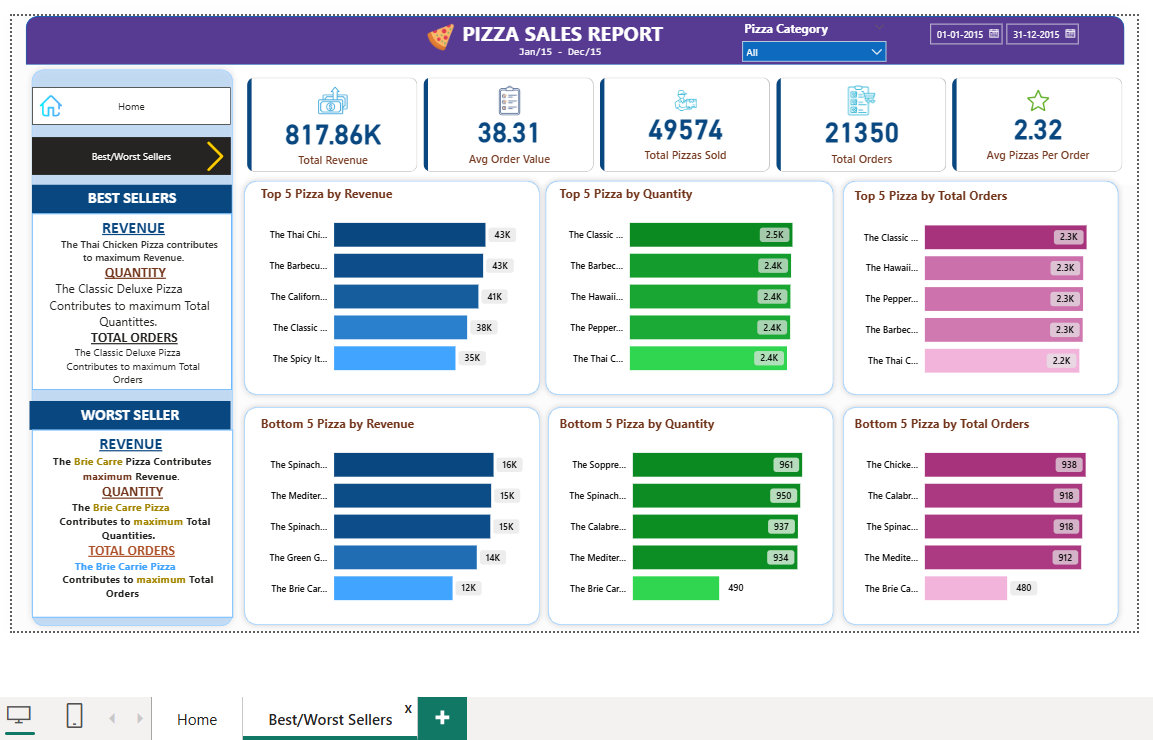

The dashboard page shown, as its layout file describes it:
{"tool":"powerbi","page":{"name":"Best/Worst Sellers","canvas":[1500,820],"ordinal":1},"visuals":[{"type":"cardVisual","fields":{"Data":["pizza_sales.Total Revenue","pizza_sales.Avg Order Value","pizza_sales.Total Pizzas Sold","pizza_sales.Total Orders","pizza_sales.Avg Pizzas Per Order"]},"box":[296.7,65,1203.3,160],"z":0},{"type":"shape","box":[18.3,0,1465,65],"z":1000},{"type":"textbox","box":[583.3,0,301.7,46.7],"z":2000},{"type":"textbox","box":[611.7,33.3,238.3,36.7],"z":3000},{"type":"image","box":[548.3,10,46.7,36.7],"z":4000},{"type":"shape","box":[301.7,211.7,410,301.7],"z":5000},{"type":"shape","box":[301.7,513.3,410,306.7],"z":6000},{"type":"shape","box":[706.7,513.3,396.7,306.7],"z":7000},{"type":"shape","box":[1100,513.3,383.3,306.7],"z":8000},{"type":"shape","box":[18.4,63.2,284.2,757.9],"z":9000},{"type":"textbox","box":[26.7,225,266.7,38.3],"z":10000},{"type":"textbox","box":[26.7,263.3,266.7,235],"z":11000},{"type":"textbox","box":[24,514,268,38],"z":12000},{"type":"textbox","box":[26,552,268,250],"z":13000},{"type":"slicer","fields":{"Values":["pizza_sales.pizza_category"]},"box":[963.4,0,212.2,63.4],"z":14000},{"type":"slicer","fields":{"Values":["pizza_sales.order_date"]},"box":[1211.7,0,218.3,70],"z":15000},{"type":"shape","box":[703.3,211.7,400,301.7],"z":16000},{"type":"shape","box":[1100,211.7,383.3,301.7],"z":17000},{"type":"barChart","title":"Top 5 Pizza by Revenue","fields":{"Category":["pizza_sales.pizza_name"],"Y":["pizza_sales.Total Revenue"]},"box":[326.7,225,360,270],"z":18000},{"type":"barChart","title":"Bottom 5 Pizza by Revenue","fields":{"Category":["pizza_sales.pizza_name"],"Y":["pizza_sales.Total Revenue"]},"box":[326.7,531.7,360,270],"z":19000},{"type":"barChart","title":"Top 5 Pizza by Quantity","fields":{"Category":["pizza_sales.pizza_name"],"Y":["pizza_sales.Total Pizzas Sold"]},"box":[725,225,345,270],"z":20000},{"type":"barChart","title":"Bottom 5 Pizza by Quantity","fields":{"Category":["pizza_sales.pizza_name"],"Y":["pizza_sales.Total Pizzas Sold"]},"box":[725,531.7,358.3,270],"z":21000},{"type":"barChart","title":"Top 5 Pizza by Total Orders","fields":{"Category":["pizza_sales.pizza_name"],"Y":["pizza_sales.Total Orders"]},"box":[1118.3,228.3,345,270],"z":22000},{"type":"barChart","title":"Bottom 5 Pizza by Total Orders","fields":{"Category":["pizza_sales.pizza_name"],"Y":["pizza_sales.Total Orders"]},"box":[1118.3,531.7,345,270],"z":23000},{"type":"pageNavigator","box":[27.3,95.5,265.9,50],"z":23002},{"type":"pageNavigator","box":[27.3,161.4,265.9,50],"z":23003},{"type":"image","box":[247.7,165.9,45.5,40.9],"z":23004},{"type":"image","box":[27.3,104.5,50,29.5],"z":23005}]}

Visuals, with their boxes on the page's 1500x820 design canvas (x1, y1, x2, y2). These are canvas units, not pixel positions in the 1153x740 screenshot, which may show the page scaled, cropped or inside an application window:
cardVisual - pizza_sales.Total Revenue x pizza_sales.Avg Order Value: 297/65/1500/225
shape: 18/0/1483/65
textbox: 583/0/885/47
textbox: 612/33/850/70
image: 548/10/595/47
shape: 302/212/712/513
shape: 302/513/712/820
shape: 707/513/1103/820
shape: 1100/513/1483/820
shape: 18/63/303/821
textbox: 27/225/293/263
textbox: 27/263/293/498
textbox: 24/514/292/552
textbox: 26/552/294/802
slicer - pizza_sales.pizza_category: 963/0/1176/63
slicer - pizza_sales.order_date: 1212/0/1430/70
shape: 703/212/1103/513
shape: 1100/212/1483/513
"Top 5 Pizza by Revenue" barChart: 327/225/687/495
"Bottom 5 Pizza by Revenue" barChart: 327/532/687/802
"Top 5 Pizza by Quantity" barChart: 725/225/1070/495
"Bottom 5 Pizza by Quantity" barChart: 725/532/1083/802
"Top 5 Pizza by Total Orders" barChart: 1118/228/1463/498
"Bottom 5 Pizza by Total Orders" barChart: 1118/532/1463/802
pageNavigator: 27/96/293/146
pageNavigator: 27/161/293/211
image: 248/166/293/207
image: 27/104/77/134
